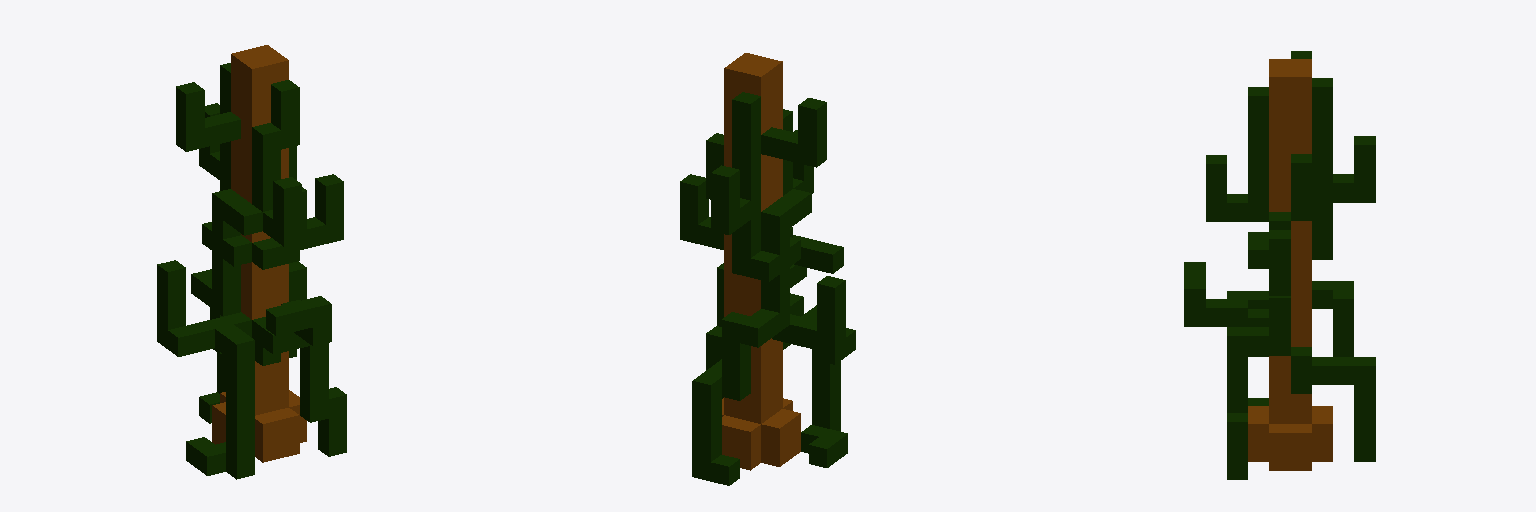
3 views of the same model, side by side, from view 1: azimuth 30°, elevation 25°; view 2: azimuth 150°, elevation 25°; view 3: azimuth 270°, elevation 25° (orthographic).
Visible parts, largest first — view 1: object 1; view 2: object 1; view 3: object 1.
Boxes of the visible parts, <box> form: object 1: <box>157,45,346,479</box>; object 1: <box>680,53,855,485</box>; object 1: <box>1184,51,1375,479</box>.
Bounding box in the file's own units: 0.9 × 2 × 0.9.
1 materials, 1 textured.